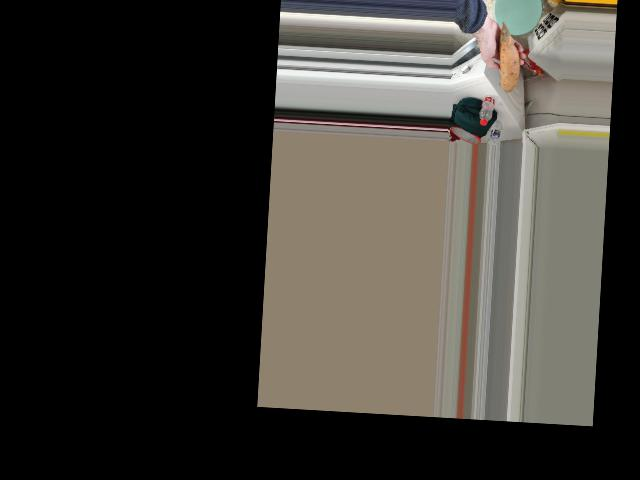sweet_potato: (496, 31, 523, 91)
